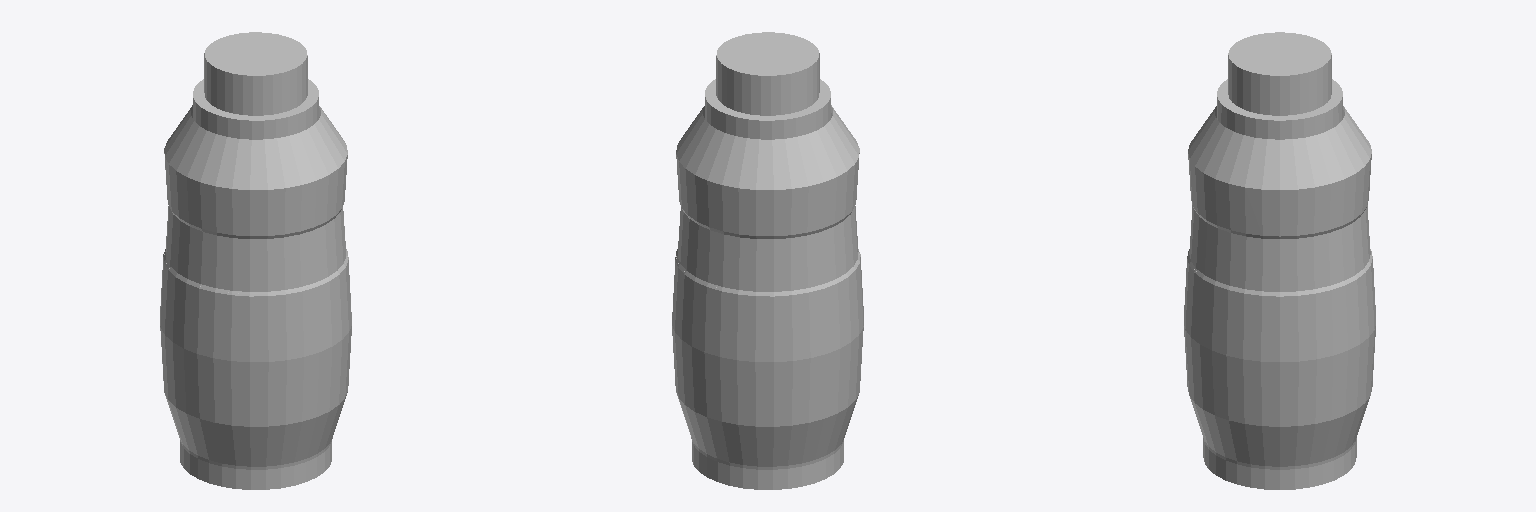
The model's file is vaso1.obj.
3 views of the same model, side by side, from view 1: azimuth 30°, elevation 25°; view 2: azimuth 150°, elevation 25°; view 3: azimuth 270°, elevation 25° (orthographic).
Visible parts, largest first — view 1: vase; view 2: vase; view 3: vase.
Boxes of the visible parts, <box> form: vase: <box>160,32,351,489</box>; vase: <box>672,32,863,489</box>; vase: <box>1184,32,1375,489</box>.
Bounding box in the file's own units: 1.22 × 2.81 × 1.22.